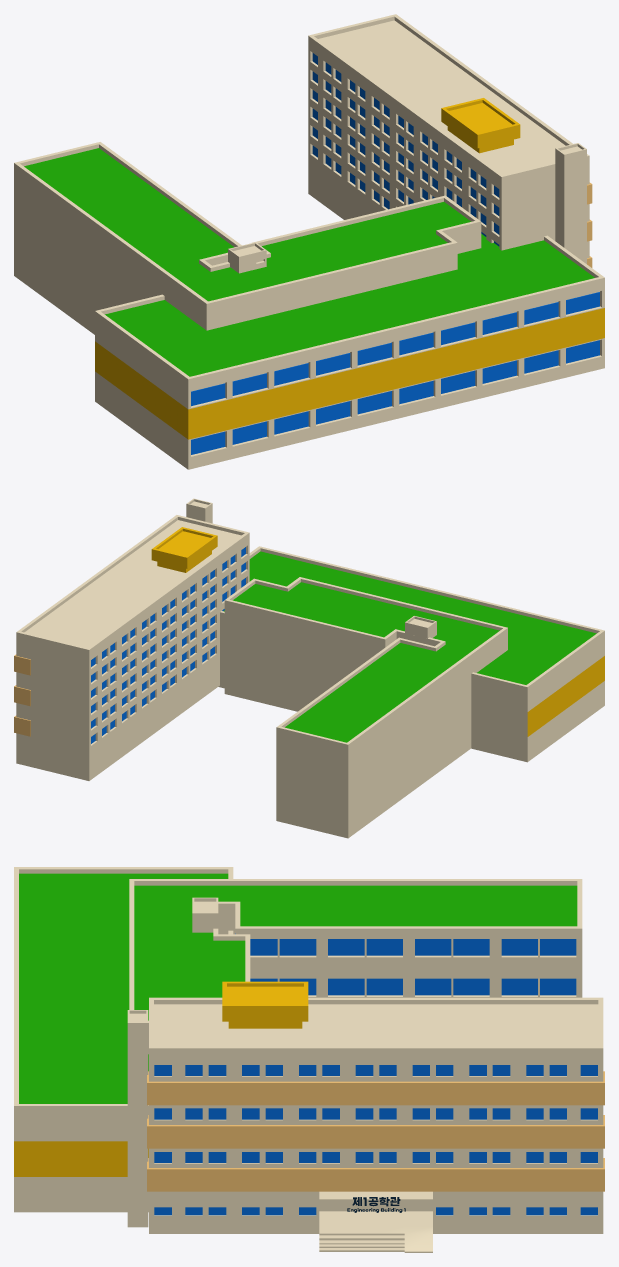
The model's file is 제1공학관.fbx.
3 renders of one model, top to bottom at view 1: azimuth 30°, elevation 25°; view 2: azimuth 150°, elevation 25°; view 3: azimuth 270°, elevation 25°, orthographic. The views are drawn at different scales.
Visible parts, largest first — view 1: Cube_3_2, Cube_4, Cube, Cube_75, Cube_139, Cube_2_2, Cube_6, Cube_7; view 2: Cube_4, Cube, Cube_3_2, Cube_139, Cube_6, Cube_7, Cube_2_2; view 3: Cube, Cube_4, Cube_3_2, Cube_3, Cube_2, Cube_1, Cube_68, Cube_74, Cube_2_2, Cube_6, Cube_67, Cube_66 (+1 smaller).
Part boxes in pixels (box(x1,y1,x2,y2)): Cube_3_2: box(95, 234, 604, 469); Cube_4: box(14, 142, 481, 334); Cube: box(308, 14, 589, 258); Cube_75: box(191, 292, 599, 454); Cube_139: box(312, 53, 499, 246); Cube_2_2: box(555, 143, 586, 263); Cube_6: box(441, 98, 520, 153); Cube_7: box(228, 242, 266, 273); Cube_4: box(224, 577, 507, 838); Cube: box(16, 515, 249, 780); Cube_3_2: box(218, 546, 604, 762); Cube_139: box(91, 547, 245, 743); Cube_6: box(151, 527, 217, 572); Cube_7: box(405, 616, 436, 638); Cube_2_2: box(186, 498, 212, 523); Cube: box(149, 997, 603, 1252); Cube_4: box(129, 879, 582, 1054); Cube_3_2: box(14, 867, 233, 1212); Cube_3: box(147, 1071, 604, 1105); Cube_2: box(147, 1158, 604, 1191); Cube_1: box(147, 1115, 604, 1148); Cube_68: box(154, 1065, 597, 1162); Cube_74: box(235, 933, 576, 995); Cube_2_2: box(127, 1010, 148, 1227); Cube_6: box(222, 981, 308, 1028); Cube_67: box(154, 1207, 316, 1215); Cube_66: box(436, 1207, 597, 1215).
Bounding box in the file's own units: 1342 × 464 × 1190.
